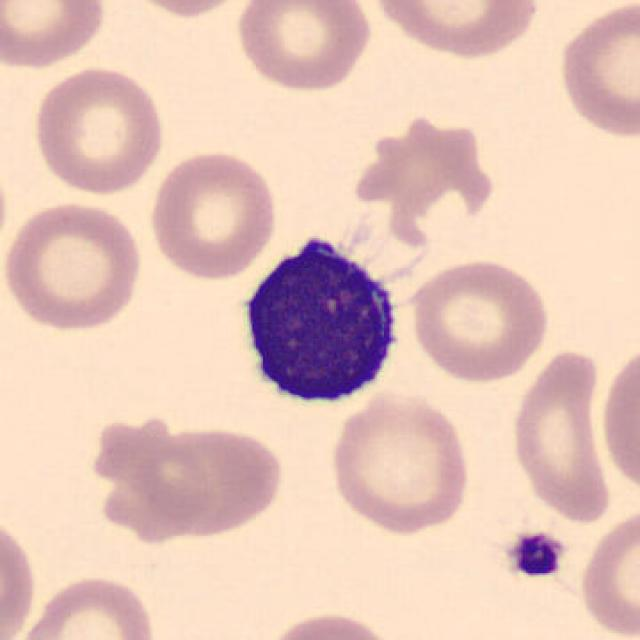Lymphocyte: (224, 226, 411, 418)
Platelets: (505, 529, 567, 580)
RBC: (325, 386, 475, 538), (0, 197, 148, 335), (403, 254, 553, 386), (507, 342, 615, 525), (29, 61, 167, 198), (132, 420, 288, 540), (146, 146, 281, 282), (231, 0, 375, 95), (553, 0, 638, 143), (366, 0, 542, 62), (12, 571, 160, 640), (576, 500, 638, 640), (0, 0, 110, 72), (595, 336, 640, 500), (0, 510, 39, 638), (257, 608, 403, 640), (112, 0, 258, 19), (0, 148, 11, 279)
